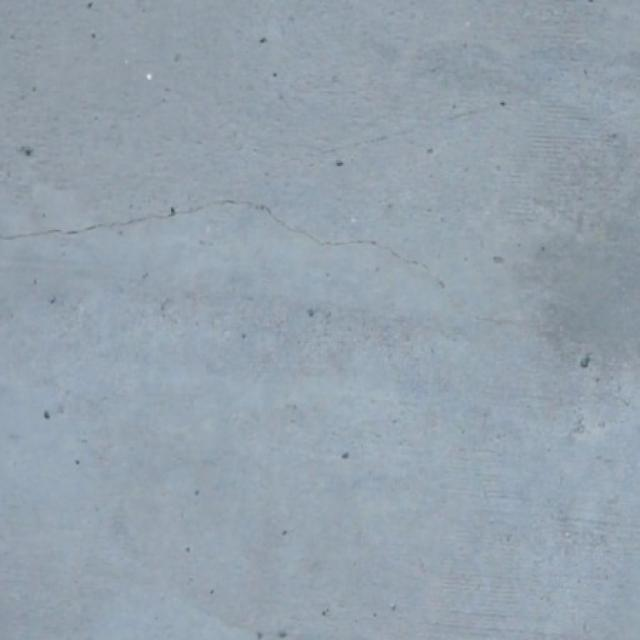Diagonal Crack: (317, 86, 552, 160)
Horizontal Crack: (3, 198, 556, 339)
